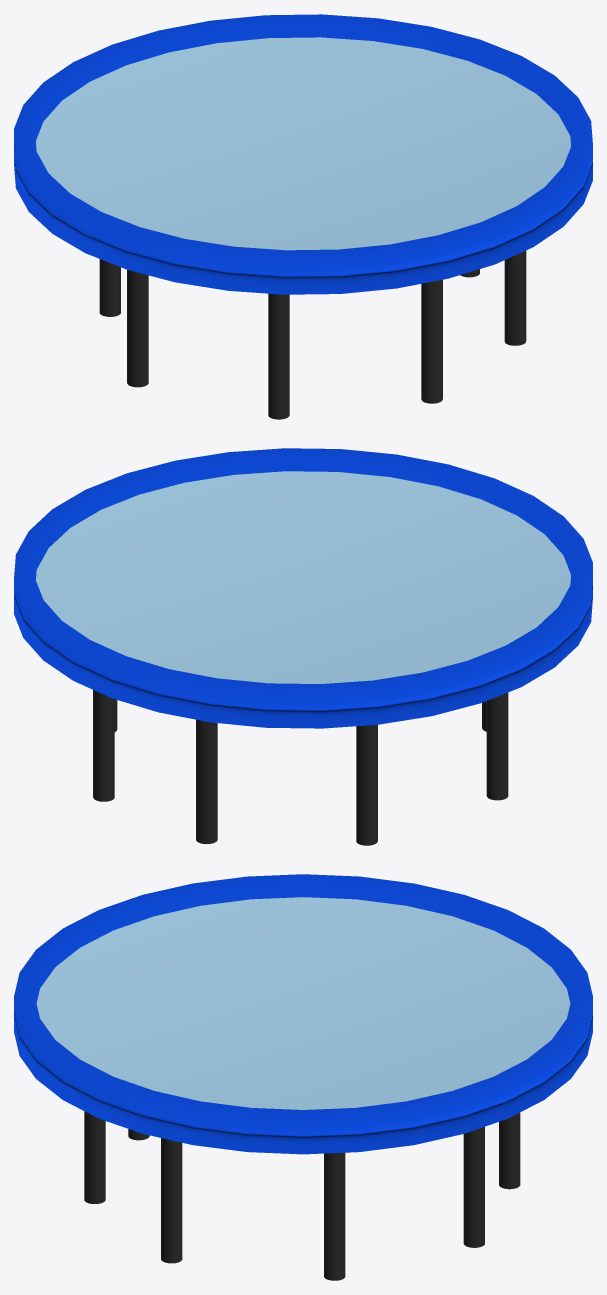
File: TRAMPOLINE.fbx
3 views of the same model, one above another, from view 1: azimuth 30°, elevation 25°; view 2: azimuth 150°, elevation 25°; view 3: azimuth 270°, elevation 25° (orthographic).
Visible parts, largest first — view 1: Cylinder, Cylinder.002, Cylinder.003, Cylinder.004; view 2: Cylinder, Cylinder.004, Cylinder.002, Cylinder.001; view 3: Cylinder, Cylinder.001, Cylinder.003, Cylinder.004.
Part boxes in pixels (x1=…): Cylinder: x1=14, y1=14, x2=592, y2=294; Cylinder.002: x1=127, y1=270, x2=289, y2=419; Cylinder.003: x1=421, y1=250, x2=526, y2=403; Cylinder.004: x1=99, y1=259, x2=120, y2=316; Cylinder: x1=14, y1=448, x2=592, y2=728; Cylinder.004: x1=196, y1=719, x2=377, y2=845; Cylinder.002: x1=482, y1=692, x2=508, y2=800; Cylinder.001: x1=93, y1=690, x2=117, y2=801; Cylinder: x1=14, y1=874, x2=592, y2=1154; Cylinder.001: x1=324, y1=1127, x2=484, y2=1280; Cylinder.003: x1=84, y1=1111, x2=182, y2=1263; Cylinder.004: x1=499, y1=1112, x2=520, y2=1189.
Bounding box in the file's own units: 640 × 233 × 640.
